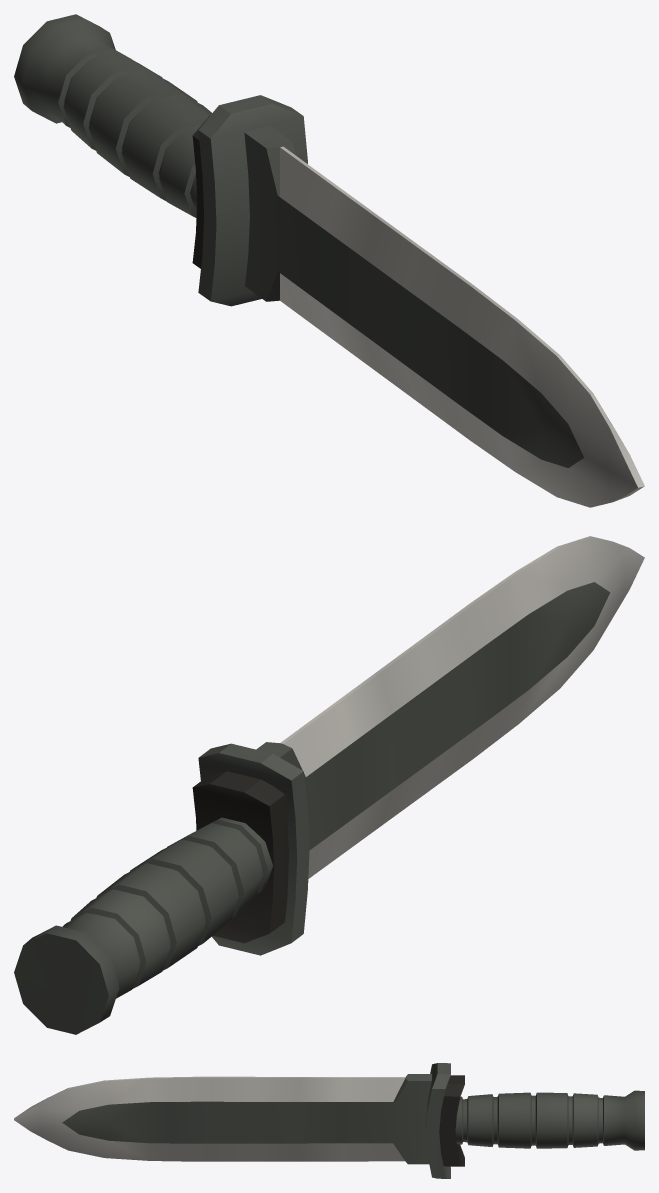
The picture shows the model from 3 angles, top to bottom: view 1: azimuth 30°, elevation 25°; view 2: azimuth 150°, elevation 25°; view 3: azimuth 270°, elevation 25°; orthographic projection. The views are drawn at different scales.
Visible parts, largest first — view 1: knife; view 2: knife; view 3: knife.
Part boxes in pixels (x1=…): knife: x1=14, y1=14, x2=644, y2=507; knife: x1=14, y1=536, x2=644, y2=1034; knife: x1=14, y1=1063, x2=644, y2=1178.
Bounding box in the file's own units: 0.0288 × 0.055 × 0.3.
1 material, 1 textured.
